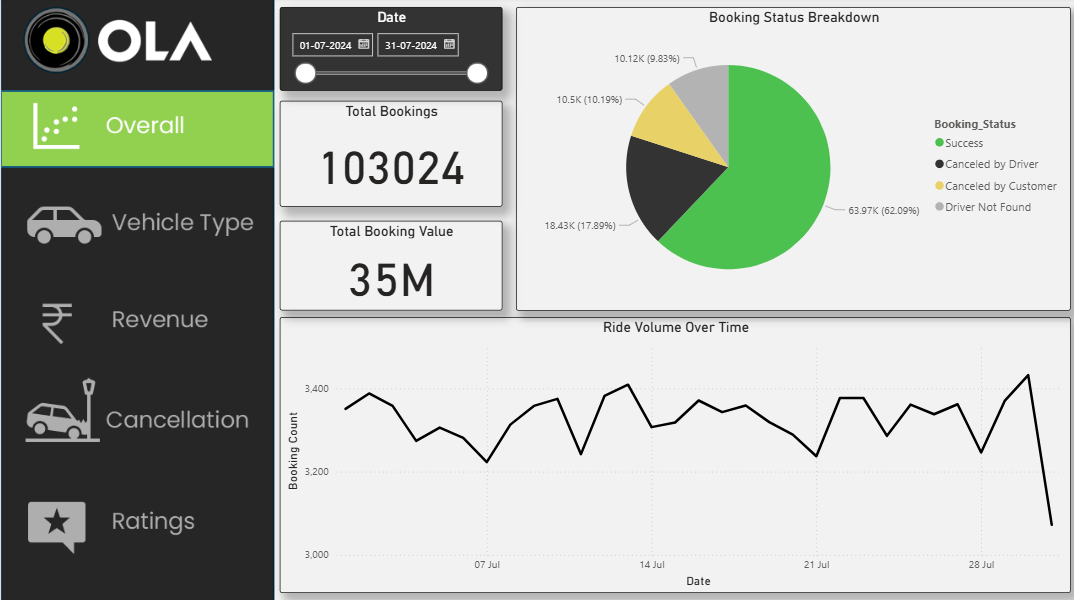

What the dashboard file says about the page in this screenshot:
{"tool":"powerbi","page":{"name":"Overall","canvas":[1280,720],"ordinal":0},"visuals":[{"type":"card","title":"Total Bookings","fields":{"Values":["Count(July.Booking_ID)"]},"box":[330.4,123,263.8,126],"z":0},{"type":"card","title":"Total Booking Value","fields":{"Values":["Sum(July.Booking_Value)"]},"box":[330.4,265.2,263.8,106.7],"z":1000},{"type":"pieChart","title":"Booking Status Breakdown","fields":{"Category":["July.Booking_Status"],"Y":["CountNonNull(July.Booking_Status)"]},"box":[610.5,11.9,657.9,360.1],"z":2000},{"type":"lineChart","title":"Ride Volume Over Time","fields":{"Y":["CountNonNull(July.Booking_ID)"],"Category":["July.Date.Variation.Date Hierarchy.Year","July.Date.Variation.Date Hierarchy.Quarter","July.Date.Variation.Date Hierarchy.Month","July.Date.Variation.Date Hierarchy.Day"]},"box":[330.4,379.3,938,327.5],"z":3000},{"type":"slicer","title":"Date","fields":{"Values":["July.Date"]},"box":[330.4,11.9,263.8,99.3],"z":4000},{"type":"actionButton","box":[0,219.6,323.8,93.3],"z":5000},{"type":"actionButton","box":[0,332.1,323.8,93.3],"z":6000},{"type":"actionButton","box":[0,447.3,323.8,101.5],"z":7000},{"type":"actionButton","box":[0,570.8,323.8,101.5],"z":8000}]}

Visuals, with their boxes in screenshot pixels (x1, y1, x2, y2), scaled from the page's 1280x720 canvas onto the 1074x600 screenshot:
"Total Bookings" card: bbox=(277, 102, 499, 208)
"Total Booking Value" card: bbox=(277, 221, 499, 310)
"Booking Status Breakdown" pieChart: bbox=(512, 10, 1064, 310)
"Ride Volume Over Time" lineChart: bbox=(277, 316, 1064, 589)
"Date" slicer: bbox=(277, 10, 499, 93)
actionButton: bbox=(0, 183, 272, 261)
actionButton: bbox=(0, 277, 272, 355)
actionButton: bbox=(0, 373, 272, 457)
actionButton: bbox=(0, 476, 272, 560)
